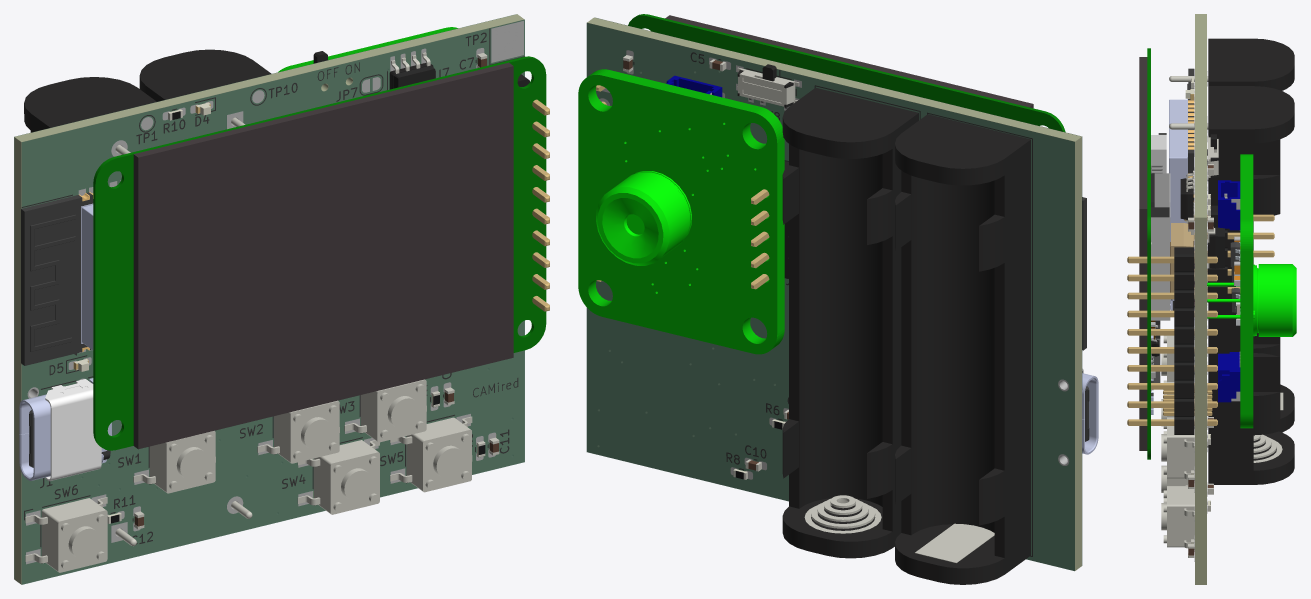
Rendered from assembly.glb.
The picture shows the model from 3 angles, left to right: view 1: azimuth 30°, elevation 25°; view 2: azimuth 150°, elevation 25°; view 3: azimuth 270°, elevation 25°; orthographic projection. The views are drawn at different scales.
Bounding box in the file's own units: 61.62 × 52.17 × 21.56.
